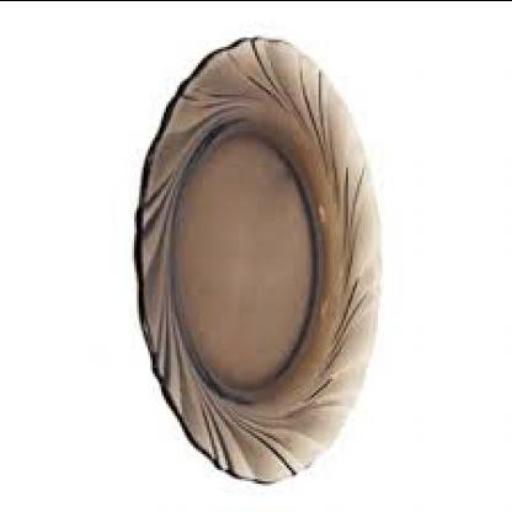glass: (136, 39, 382, 487)
